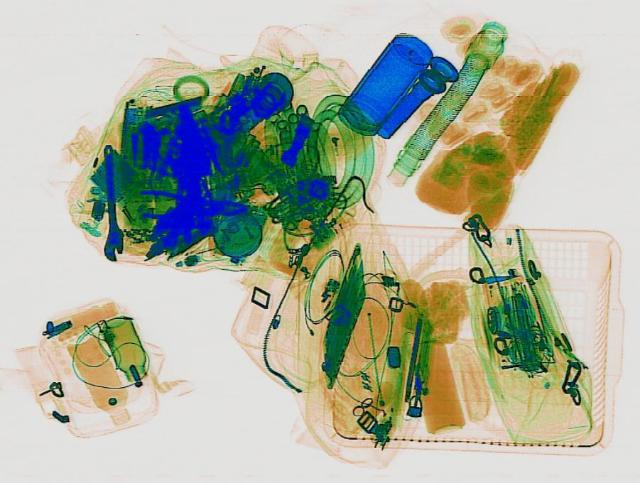Wrench: (95, 144, 125, 259)
